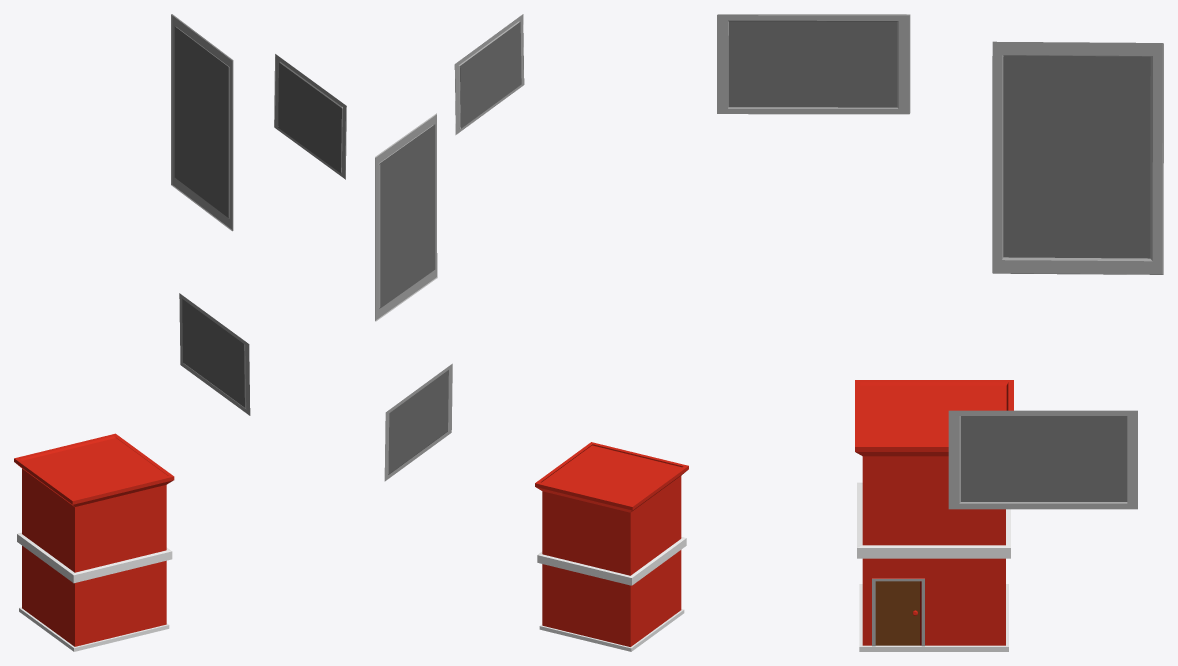
File: Huis3.fbx
The picture shows the model from 3 angles, left to right: view 1: azimuth 30°, elevation 25°; view 2: azimuth 150°, elevation 25°; view 3: azimuth 270°, elevation 25°; orthographic projection. The views are drawn at different scales.
Parts seen in each view (by area): view 1: Cube, Plane.001, Plane.002, Plane; view 2: Cube, Plane.001, Plane.002, Plane; view 3: Plane.001, Cube, Plane.002, Plane.
Part boxes in pixels (x1=…): Cube: x1=14, y1=433, x2=174, y2=651; Plane.001: x1=171, y1=14, x2=233, y2=231; Plane.002: x1=274, y1=54, x2=346, y2=179; Plane: x1=179, y1=293, x2=250, y2=415; Cube: x1=535, y1=442, x2=688, y2=651; Plane.001: x1=375, y1=113, x2=437, y2=321; Plane.002: x1=454, y1=14, x2=524, y2=134; Plane: x1=384, y1=363, x2=452, y2=481; Plane.001: x1=992, y1=41, x2=1163, y2=274; Cube: x1=855, y1=380, x2=1013, y2=651; Plane.002: x1=717, y1=14, x2=910, y2=114; Plane: x1=948, y1=410, x2=1137, y2=509.
Size of the model in its own units: 487 by 1107 by 622.
